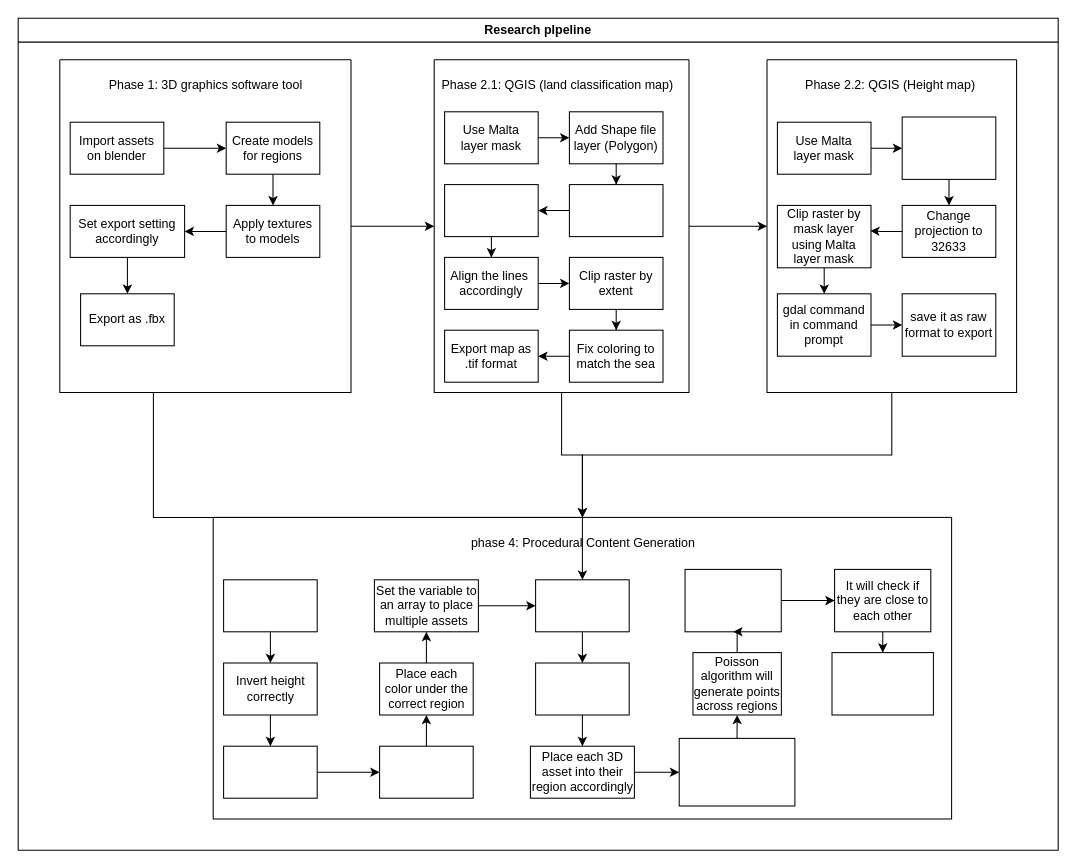
Image size: 1076x868. Some labels were removed from this diagram. Each missing label, with the centre of its shape:
Change scaling accordingly to what they are: the point at 582,688
Drag .raw (height map) into public variable: the point at 270,605
Enable advance digitizing: the point at 615,210
Find pixel color for each region: the point at 426,771
Generate grey scale raster layer (heightmap): the point at 948,147
Import 3D assets to the game engine: the point at 582,605
It will instantiate 3D models across all the points: the point at 882,683
It will set a certain distance between points: the point at 732,600
Load land map trough code as texture 2D: the point at 270,771
Set min distance value to generate amount on the region accordingly: the point at 736,771
Use the add polygon feature: the point at 491,210
